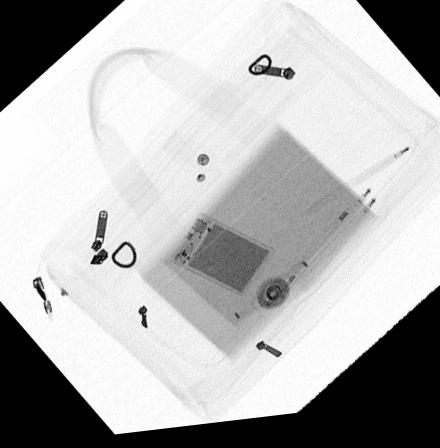Powerbank: (168, 216, 275, 303)
